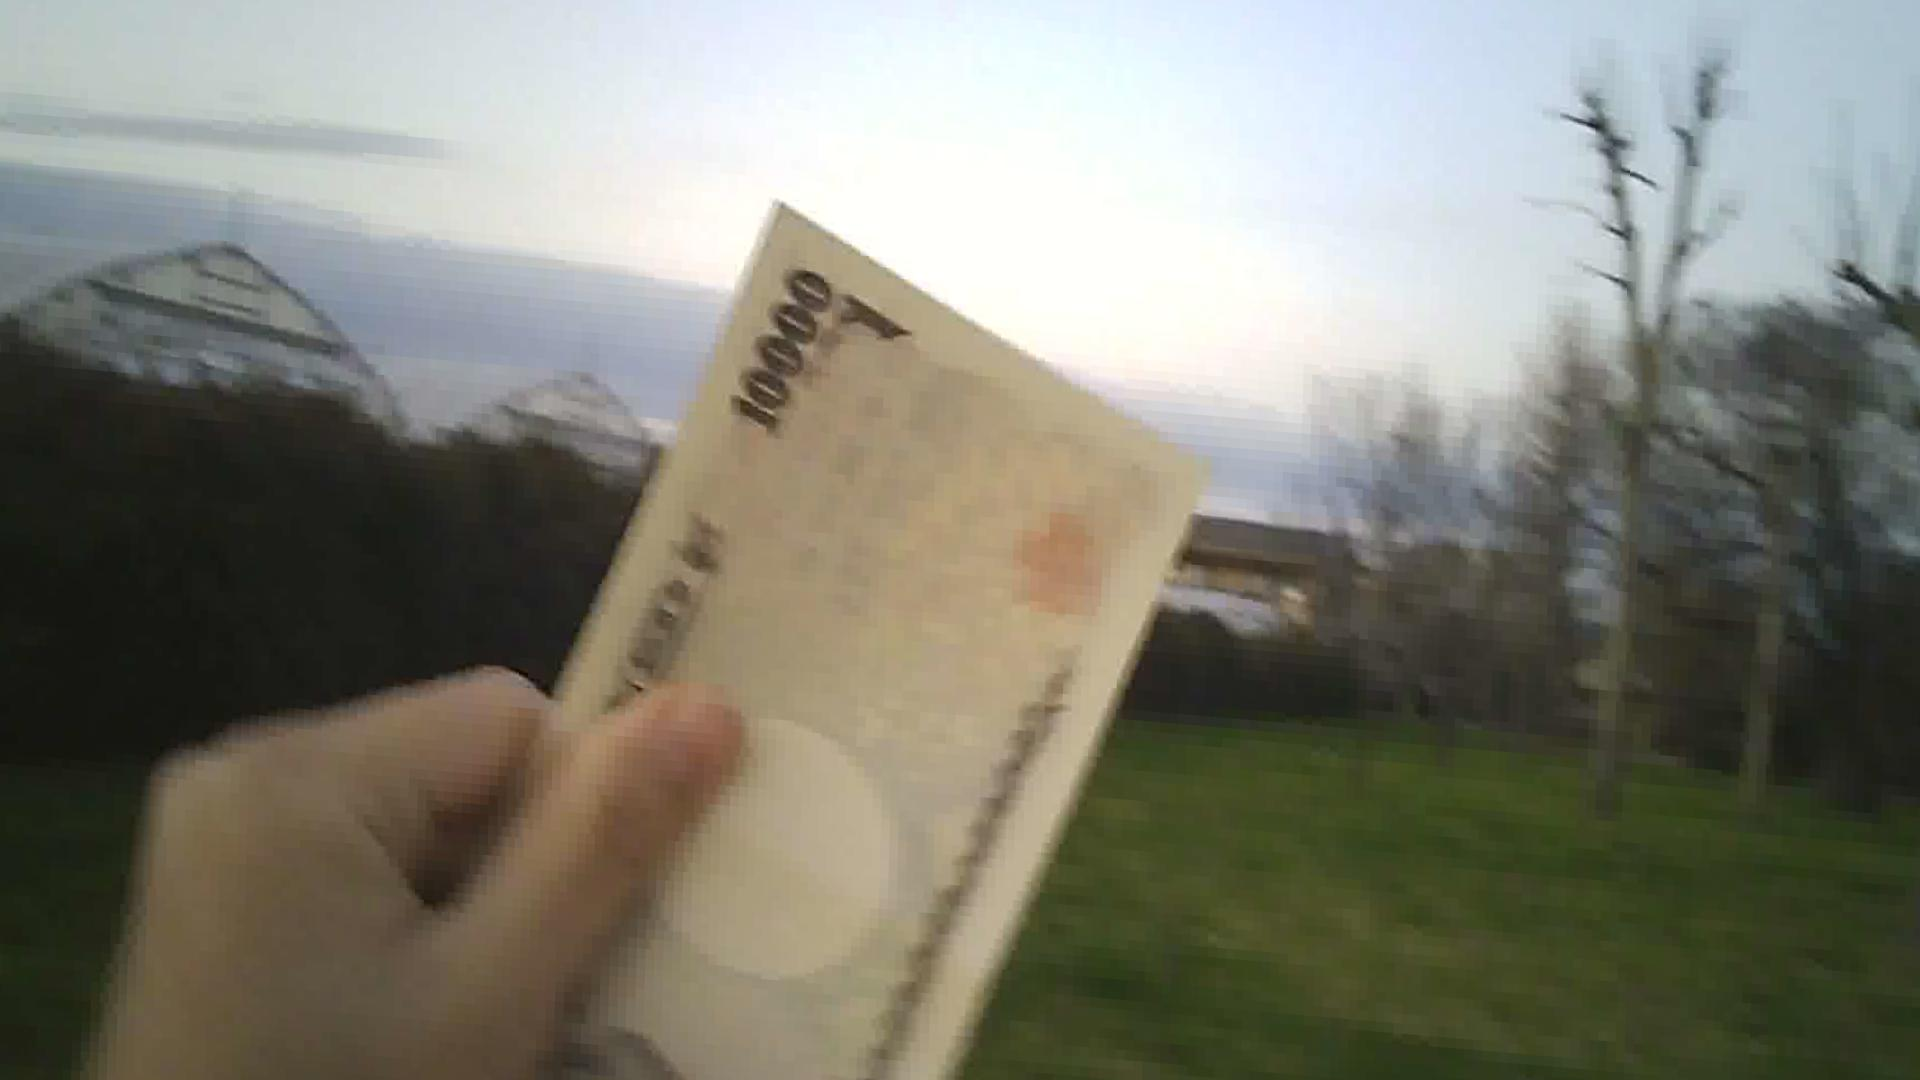10,000 Yen: (460, 169, 1195, 1058)
